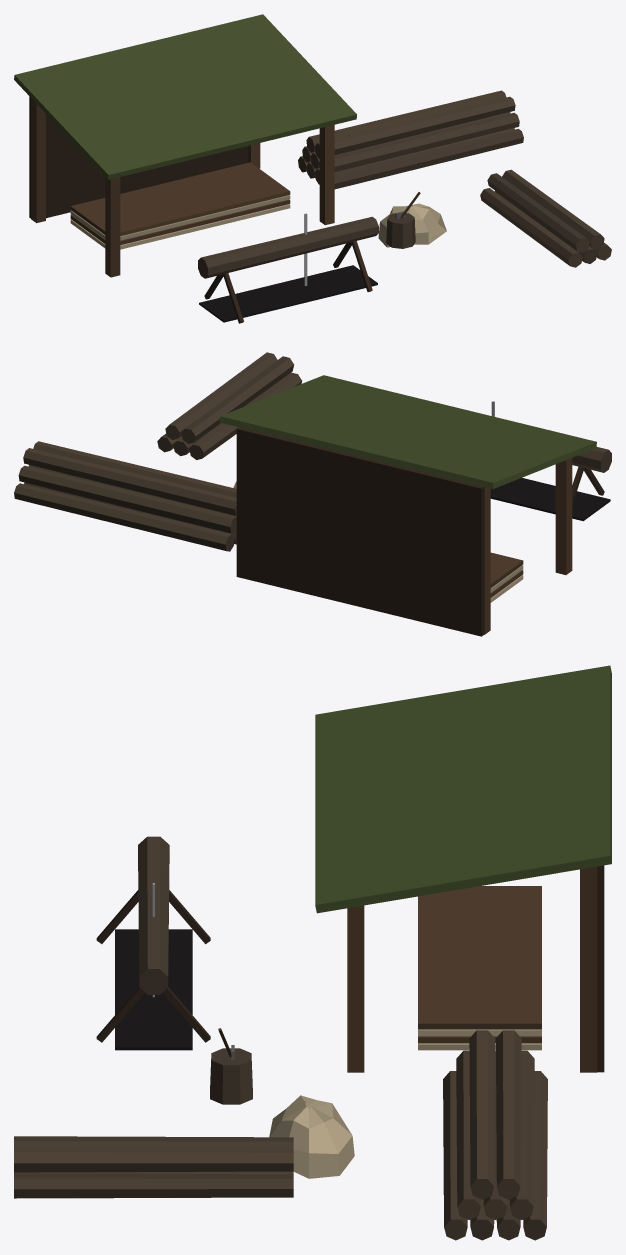
Rendered from walk_rime_lumber.glb.
The picture shows the model from 3 angles, top to bottom: view 1: azimuth 30°, elevation 25°; view 2: azimuth 150°, elevation 25°; view 3: azimuth 270°, elevation 25°; orthographic projection. The views are drawn at different scales.
Visible parts, largest first — view 1: walk_rime_lumber, walk_rime_lumber_roof; view 2: walk_rime_lumber, walk_rime_lumber_roof; view 3: walk_rime_lumber, walk_rime_lumber_roof.
Part boxes in pixels (x1,y1,x2,y2): walk_rime_lumber: (29, 90, 611, 323); walk_rime_lumber_roof: (14, 14, 356, 179); walk_rime_lumber: (14, 352, 611, 636); walk_rime_lumber_roof: (219, 375, 596, 488); walk_rime_lumber: (14, 836, 604, 1240); walk_rime_lumber_roof: (315, 665, 611, 913).
Size of what is drawn, in the model's own units: 10.65 by 3.69 by 7.7.
2 materials, 2 textured.
